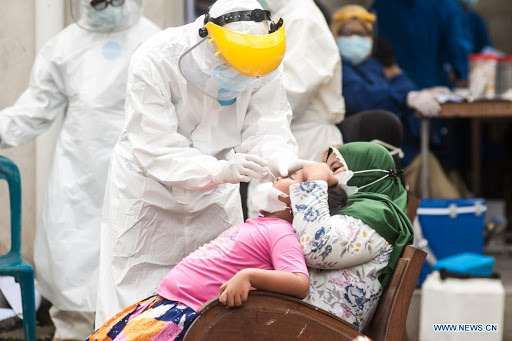Coverall: (98, 18, 297, 318), (1, 11, 179, 330)
Face_Shield: (191, 18, 289, 110)
Gloves: (213, 151, 272, 189)
mask_weared_incorrect: (246, 169, 303, 219)
with_mask: (338, 19, 375, 66)
